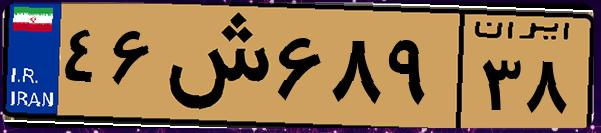3: (475, 38, 525, 113)
4: (57, 26, 110, 100)
6: (270, 28, 330, 110), (110, 28, 158, 98)
8: (330, 28, 385, 110), (525, 38, 570, 115)
9: (385, 28, 445, 110)
ش: (158, 12, 270, 120)
